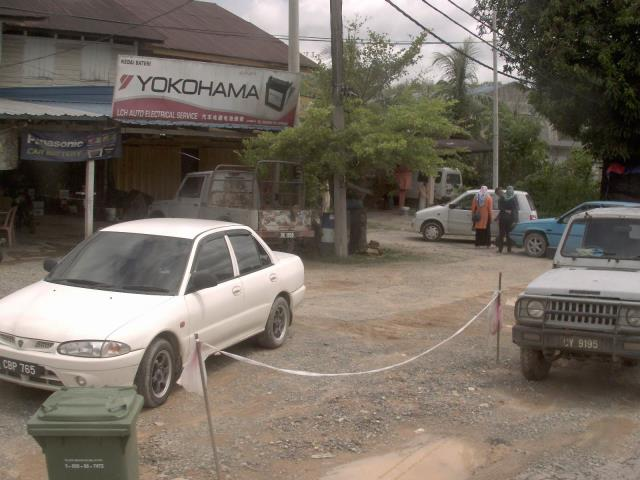ads_sign: (101, 43, 309, 140)
